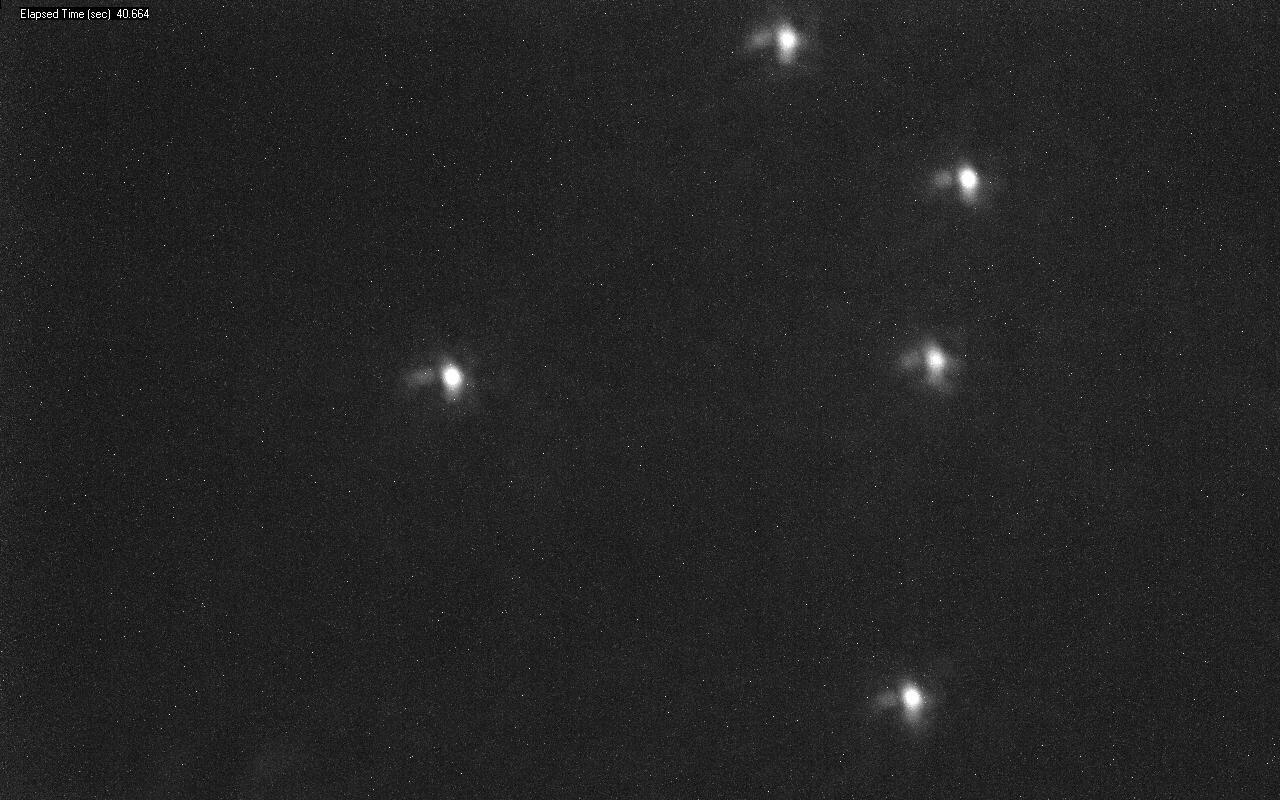Bead: (906, 343, 952, 379), (944, 167, 978, 198), (898, 681, 927, 717), (440, 362, 464, 396), (775, 26, 797, 56)
